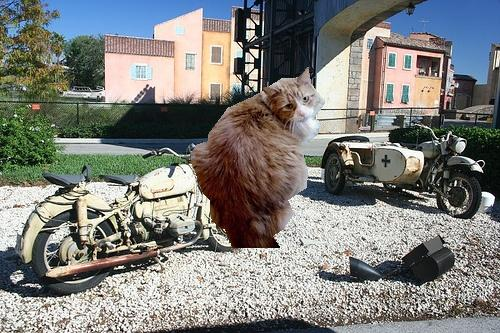tampered: (191, 68, 325, 248)
